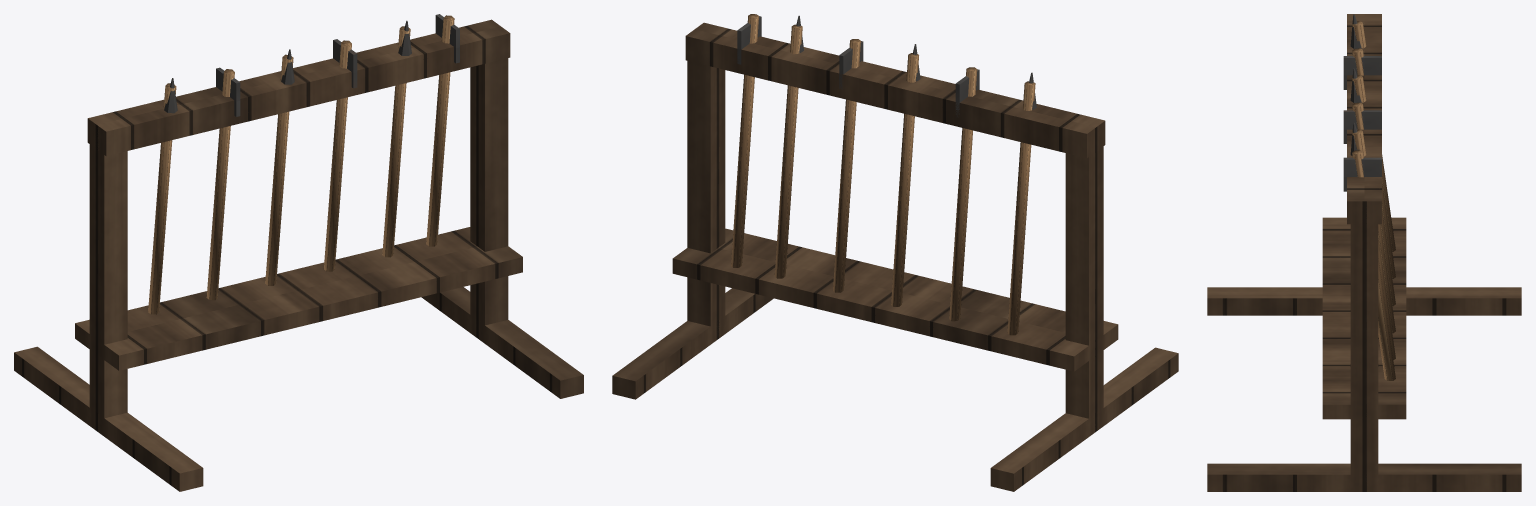
Rendered from WeaponStand.gltf.
3 renders of one model, left to right at view 1: azimuth 30°, elevation 25°; view 2: azimuth 150°, elevation 25°; view 3: azimuth 270°, elevation 25°, orthographic. The views are drawn at different scales.
Visible parts, largest first — view 1: WeaponStand; view 2: WeaponStand; view 3: WeaponStand.
Part boxes in pixels (box(x1,y1,x2,y2)): WeaponStand: box(14, 14, 583, 491); WeaponStand: box(612, 14, 1178, 491); WeaponStand: box(1207, 14, 1521, 491).
Size of the model in its own units: 1.38 by 1.11 by 0.98.
Materials: 3 (3 with a texture image).
